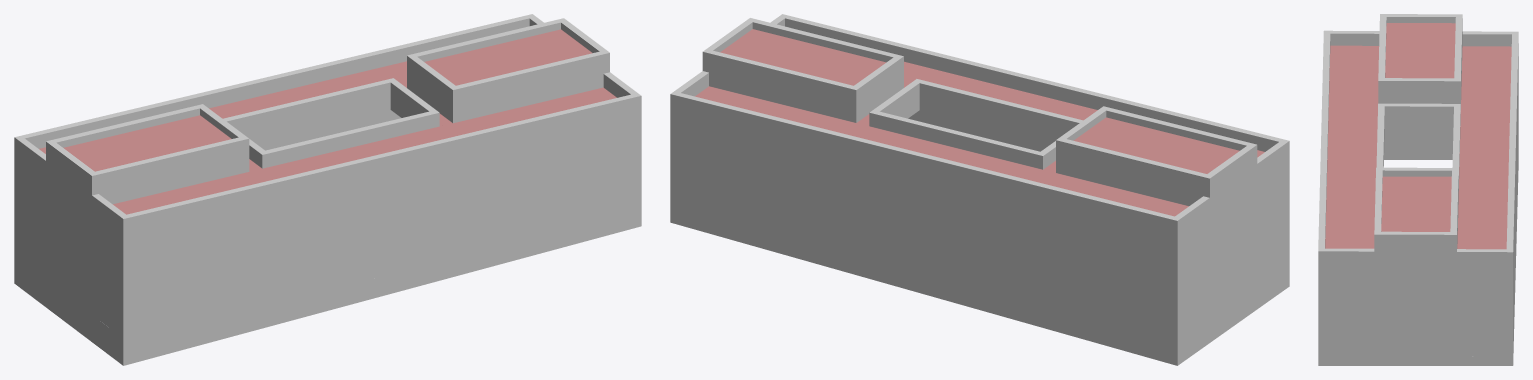
The model's file is LOD_Block_1_42.glb.
The picture shows the model from 3 angles, left to right: view 1: azimuth 30°, elevation 25°; view 2: azimuth 150°, elevation 25°; view 3: azimuth 270°, elevation 25°; orthographic projection. The views are drawn at different scales.
Visible parts, largest first — view 1: mesh_CityEngineMaterial_589; view 2: mesh_CityEngineMaterial_589; view 3: mesh_CityEngineMaterial_589.
Boxes of the visible parts, x1=… form: mesh_CityEngineMaterial_589: x1=14, y1=14, x2=641, y2=365; mesh_CityEngineMaterial_589: x1=670, y1=14, x2=1289, y2=365; mesh_CityEngineMaterial_589: x1=1318, y1=14, x2=1518, y2=365.
Bounding box in the file's own units: 39.36 × 12.1 × 15.07.
